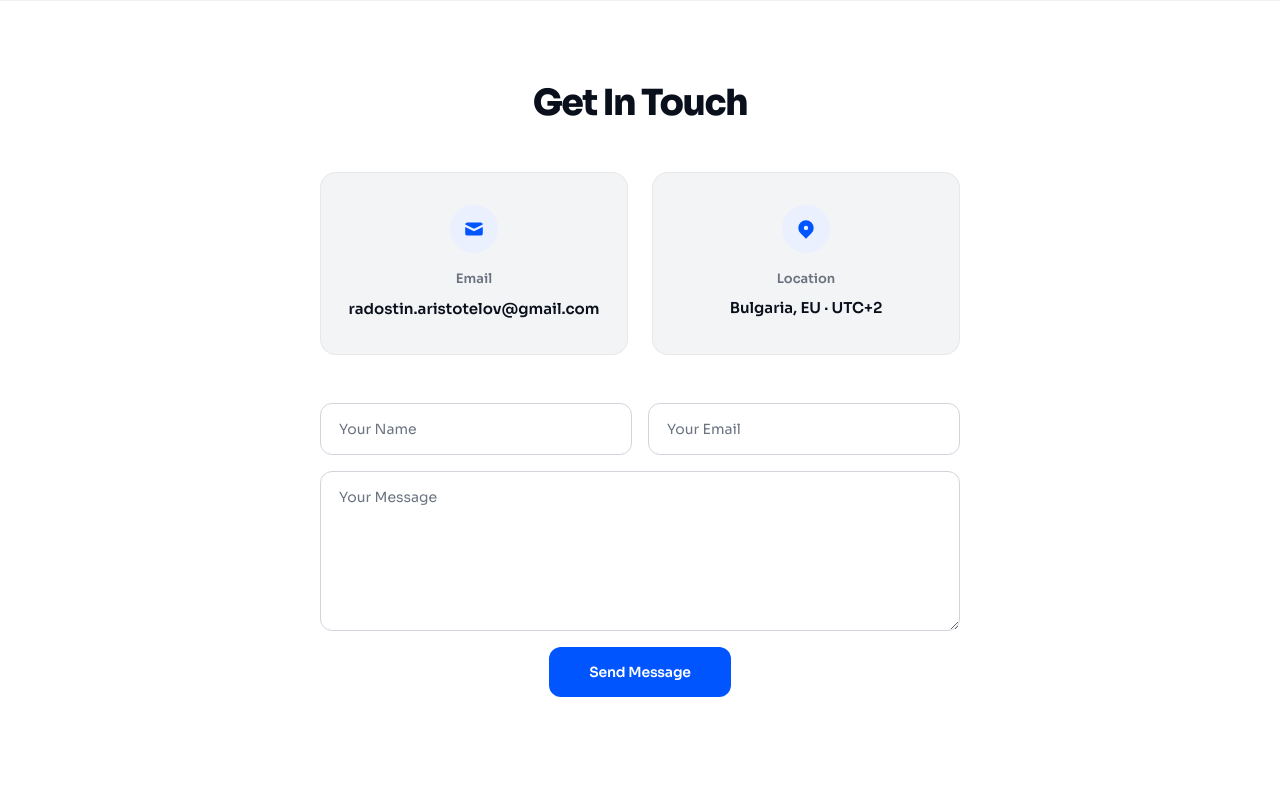
Scenario: Contact form › invalid submission › shows an error only on the affected field
Step 1. Type "Ada" into the field labelled "Your Name" → (476, 429), box [320, 403, 632, 455]
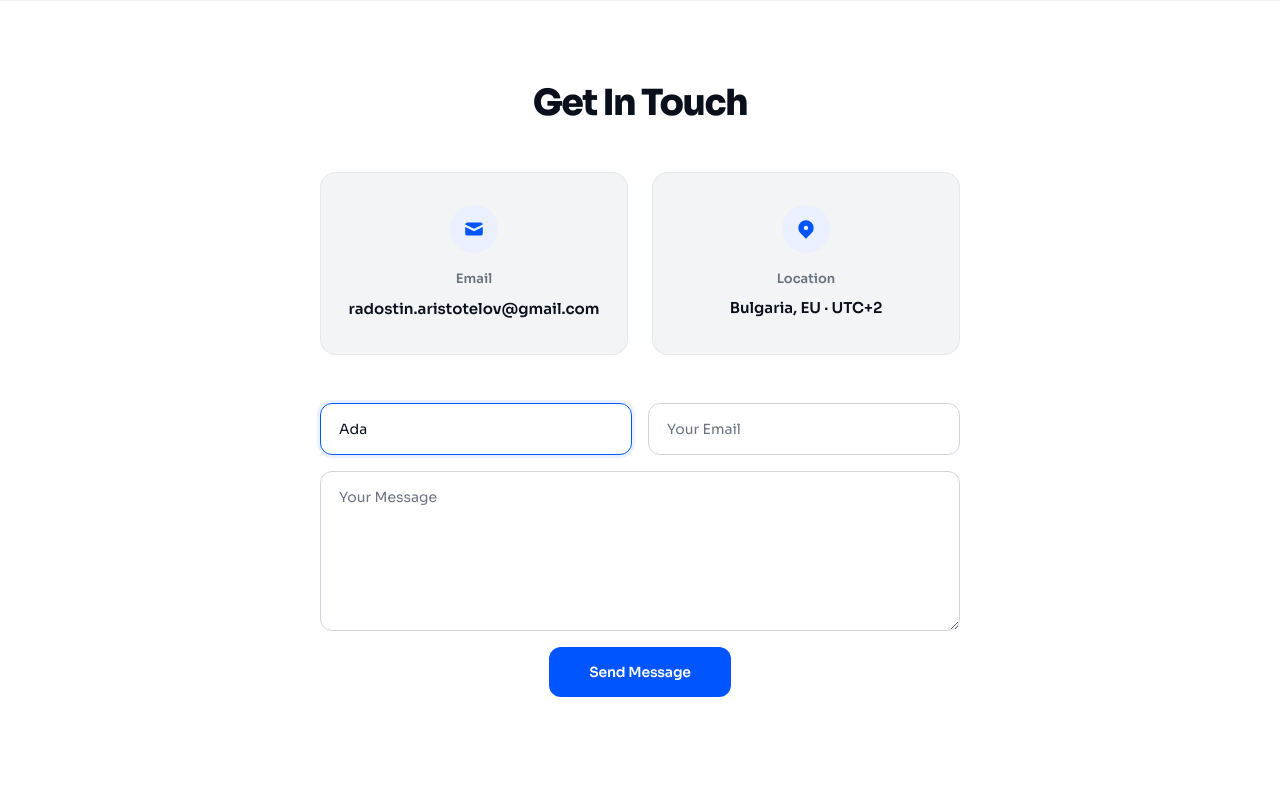
Step 2. Type "not-an-email" into the field labelled "Your Email" → (804, 429), box [648, 403, 960, 455]
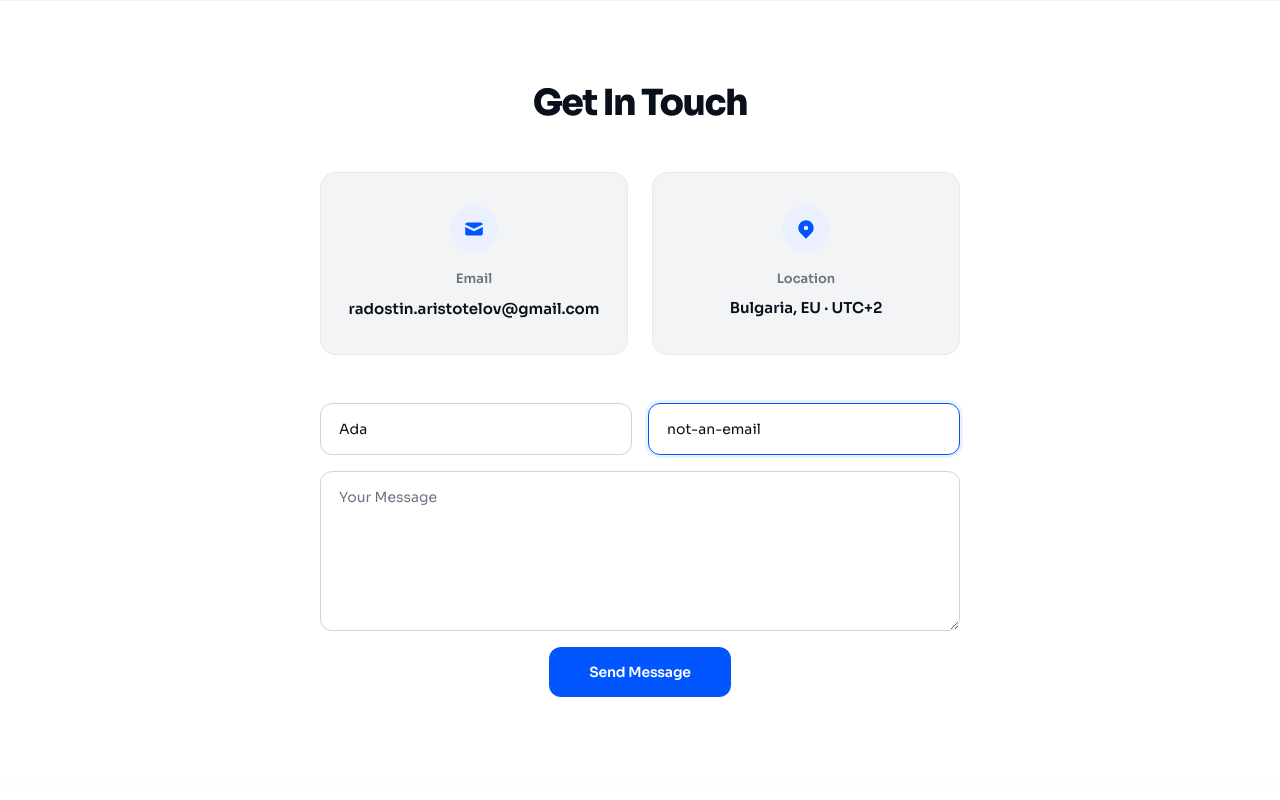
Step 3. Type "Hi" into the text box labelled "Your Message" → (640, 551), box [320, 471, 960, 631]
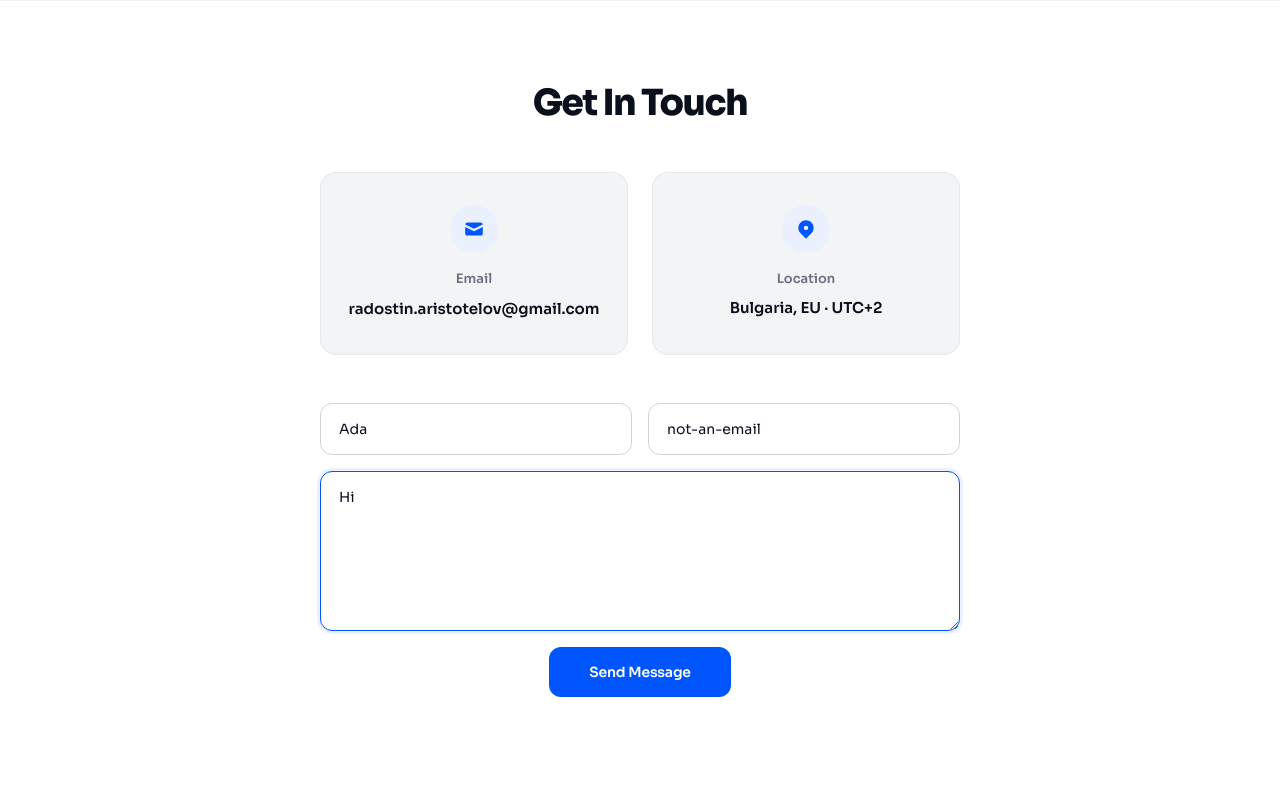
Step 4. Click the button "Send Message" → (640, 672), box [549, 647, 731, 697]
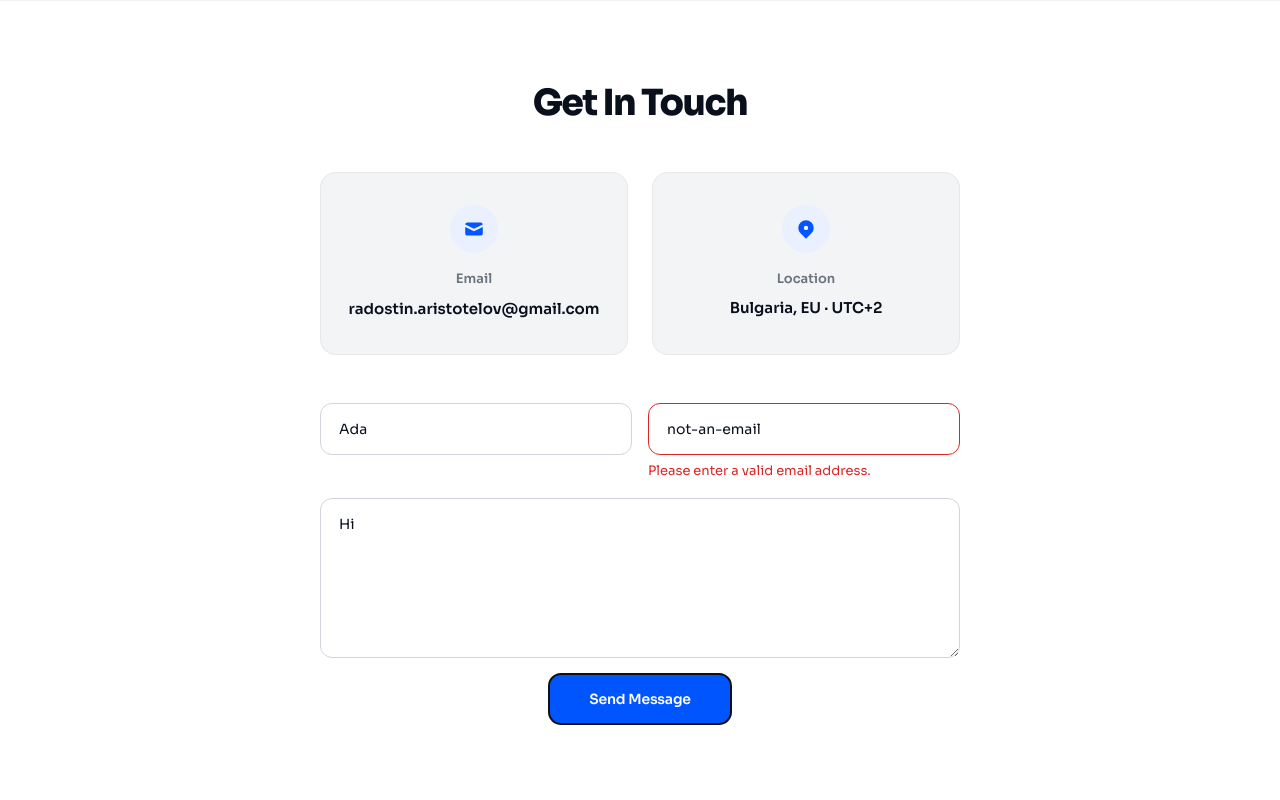
Expected: the text "Please enter a valid email address." is shown, [648, 462, 871, 479]
